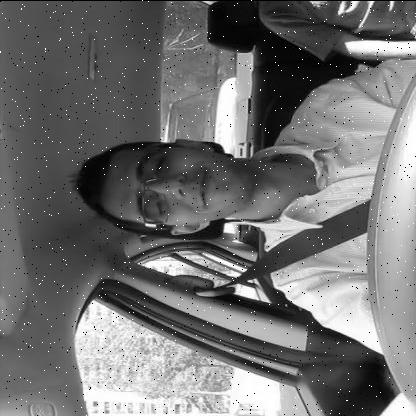seatbelt: (63, 115, 401, 301)
